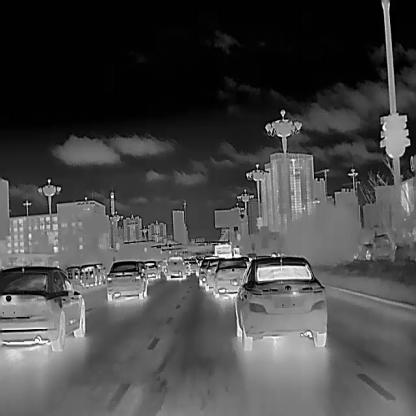bus: (213, 243, 232, 257), (232, 246, 239, 258)
car: (235, 255, 327, 351), (0, 263, 84, 352), (104, 260, 146, 302), (213, 257, 248, 298), (205, 257, 225, 290), (198, 256, 218, 287), (165, 255, 187, 281), (79, 263, 100, 287), (142, 260, 160, 280), (62, 265, 80, 284), (187, 258, 197, 274), (182, 259, 190, 276), (240, 255, 250, 266), (246, 252, 257, 260)
